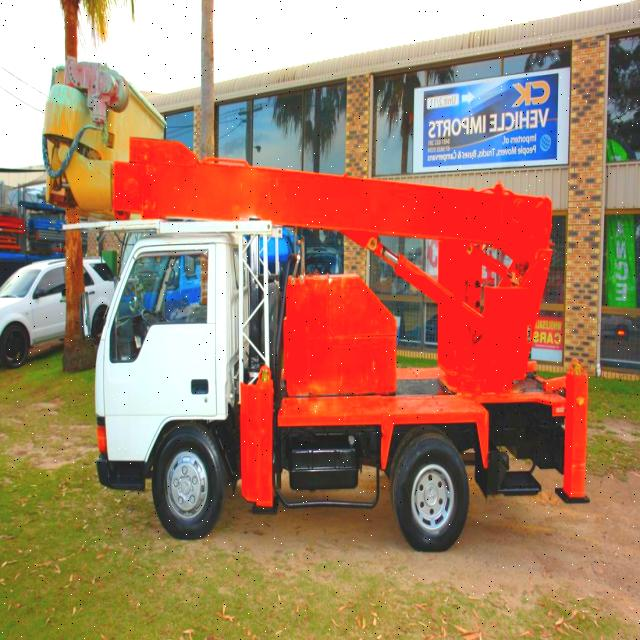truck: (95, 137, 592, 552)
